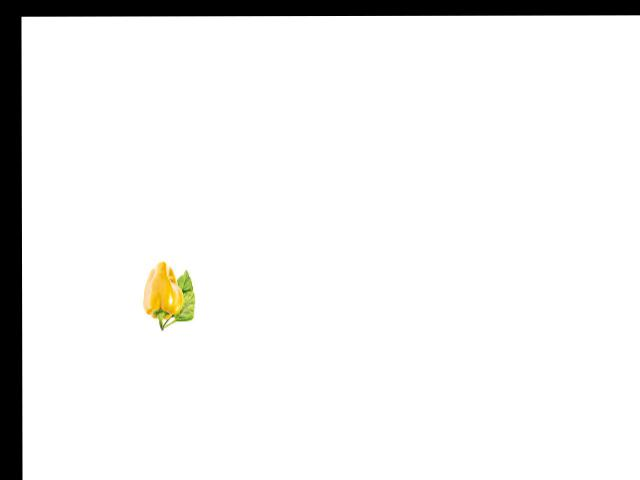bell_pepper: (139, 259, 184, 331)
